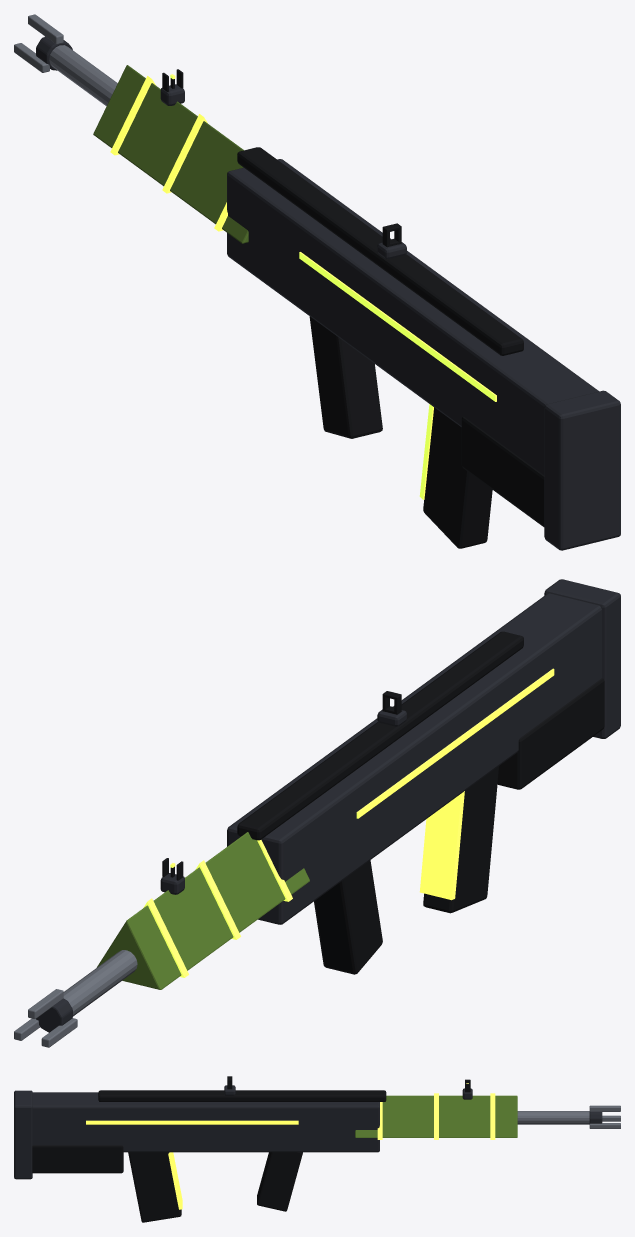
Rendered from burst.glb.
The picture shows the model from 3 angles, top to bottom: view 1: azimuth 30°, elevation 25°; view 2: azimuth 150°, elevation 25°; view 3: azimuth 270°, elevation 25°; orthographic projection. The views are drawn at different scales.
Parts seen in each view (by area): view 1: Body, Magazine, IronSights; view 2: Body, Magazine, IronSights; view 3: Body, Magazine, IronSights.
Boxes of the visible parts, x1,y1,x2,y2 form: Body: (14,14,620,550); Magazine: (419,404,492,548); IronSights: (160,69,406,259); Body: (14,579,620,1047); Magazine: (419,766,498,913); IronSights: (160,691,406,894); Body: (14,1090,620,1211); Magazine: (128,1152,182,1222); IronSights: (224,1076,472,1099).
Bounding box in the file's own units: 0.0745 × 0.2491 × 0.97.
